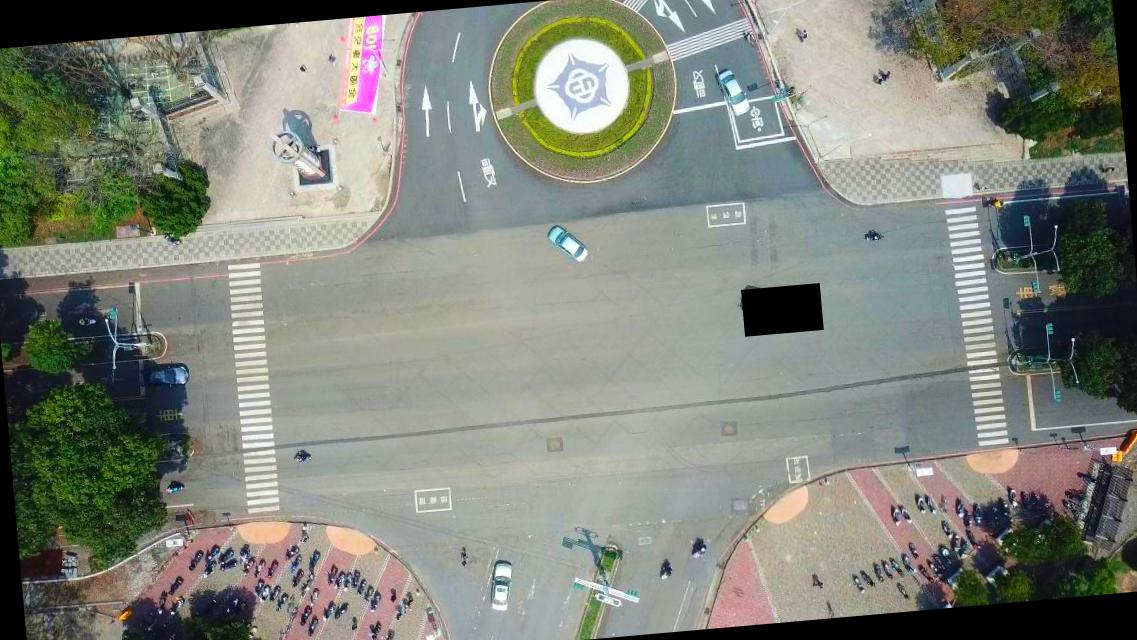vehicle: (714, 65, 752, 118), (546, 222, 589, 266), (134, 362, 190, 394), (484, 558, 516, 613)
